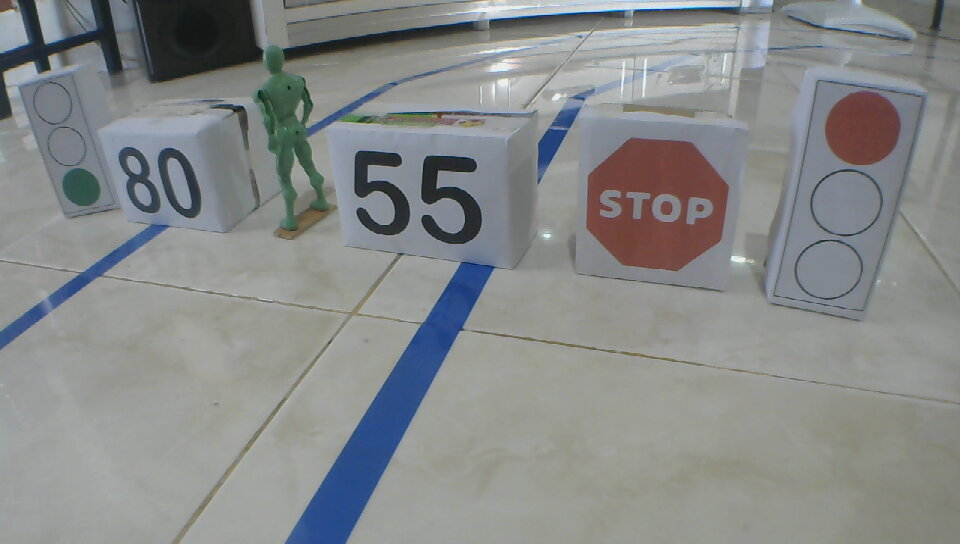Green Light: (30, 79, 102, 208)
Person: (253, 42, 332, 236)
Red Light: (790, 92, 902, 304)
Speed 55: (352, 146, 486, 248)
Speed 80: (115, 146, 205, 220)
Stop: (584, 136, 730, 275)
